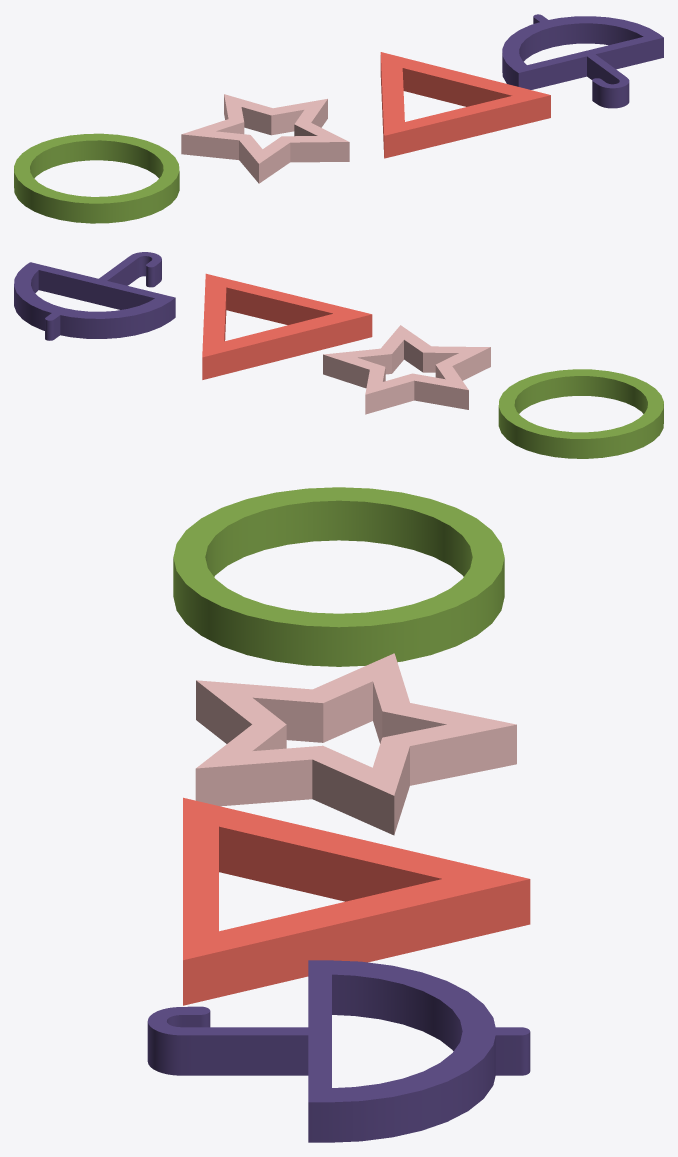
The model's file is SquidGameSymbols.fbx.
3 renders of one model, top to bottom at view 1: azimuth 30°, elevation 25°; view 2: azimuth 150°, elevation 25°; view 3: azimuth 270°, elevation 25°, orthographic. The views are drawn at different scales.
Parts seen in each view (by area): view 1: Triangle, Umbrella, Circle, Star; view 2: Triangle, Umbrella, Circle, Star; view 3: Triangle, Circle, Umbrella, Star.
Boxes of the visible parts, x1,y1,x2,y2 form: Triangle: (380, 52, 550, 158); Umbrella: (502, 14, 663, 108); Circle: (14, 133, 179, 223); Star: (181, 94, 349, 183); Triangle: (202, 273, 372, 379); Umbrella: (14, 252, 175, 340); Circle: (498, 369, 663, 458); Star: (323, 325, 490, 414); Triangle: (183, 797, 530, 1005); Circle: (173, 487, 504, 666); Umbrella: (147, 960, 530, 1142); Star: (195, 653, 516, 835).
Size of the model in its own units: 452 by 15.6 by 119.
